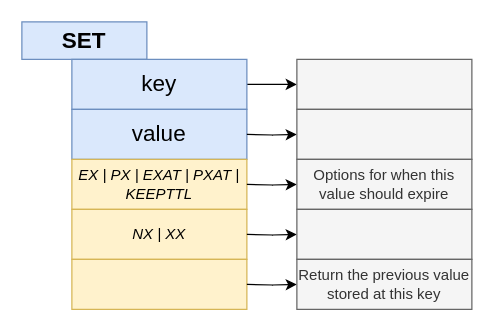
Some shapes in this 494 by 331 pixel diagram are drawn without their labels. Here are the shapes that lost their labels. From the top down, the centre of each, then its label:
At [384,83]: "Key we are trying to set".
At [384,133]: "Value we want to store".
At [384,233]: "Only set this key if...".
At [159,283]: "GET".
